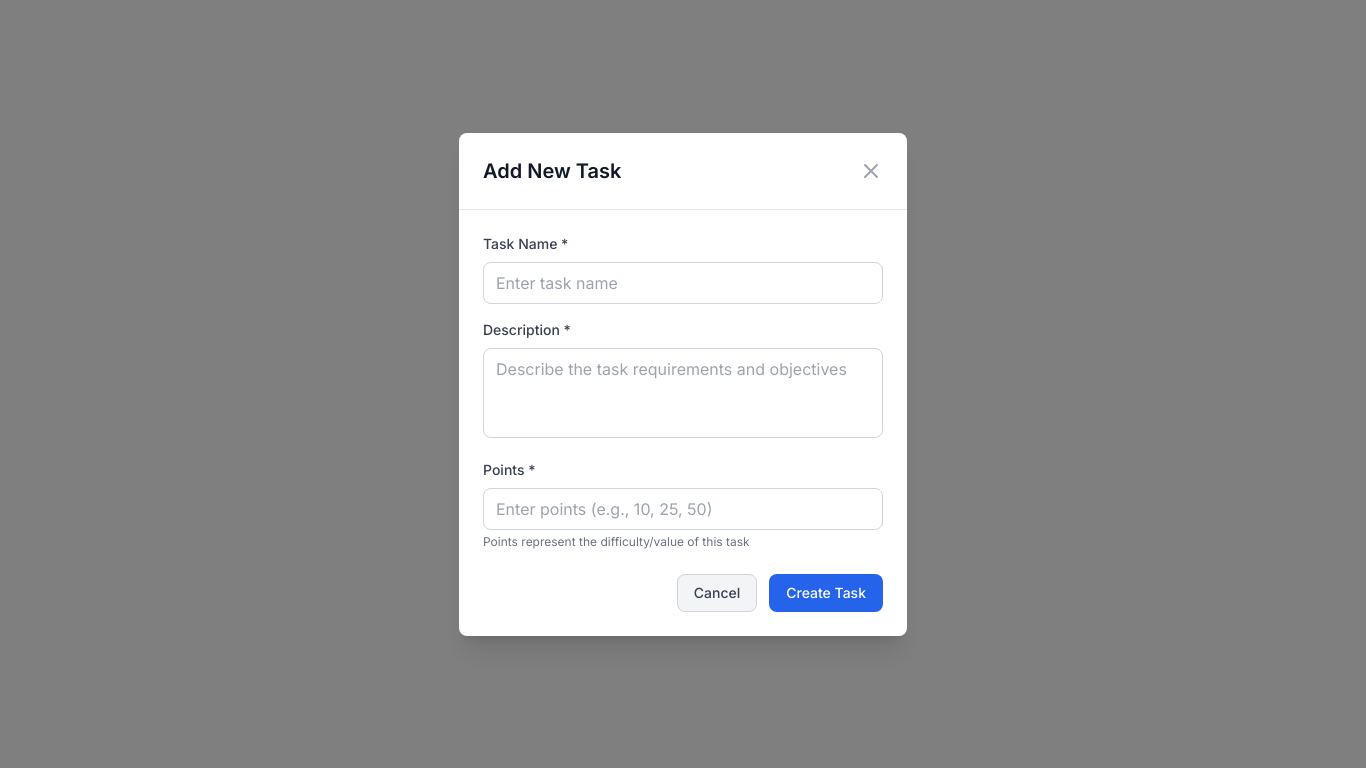
AddTaskModal › Form Submission › handles submission errors
This screenshot has width=1366, height=768.
Type "Test Task" into the field labelled "Task Name *" at (683, 282), box [483,262,883,304]
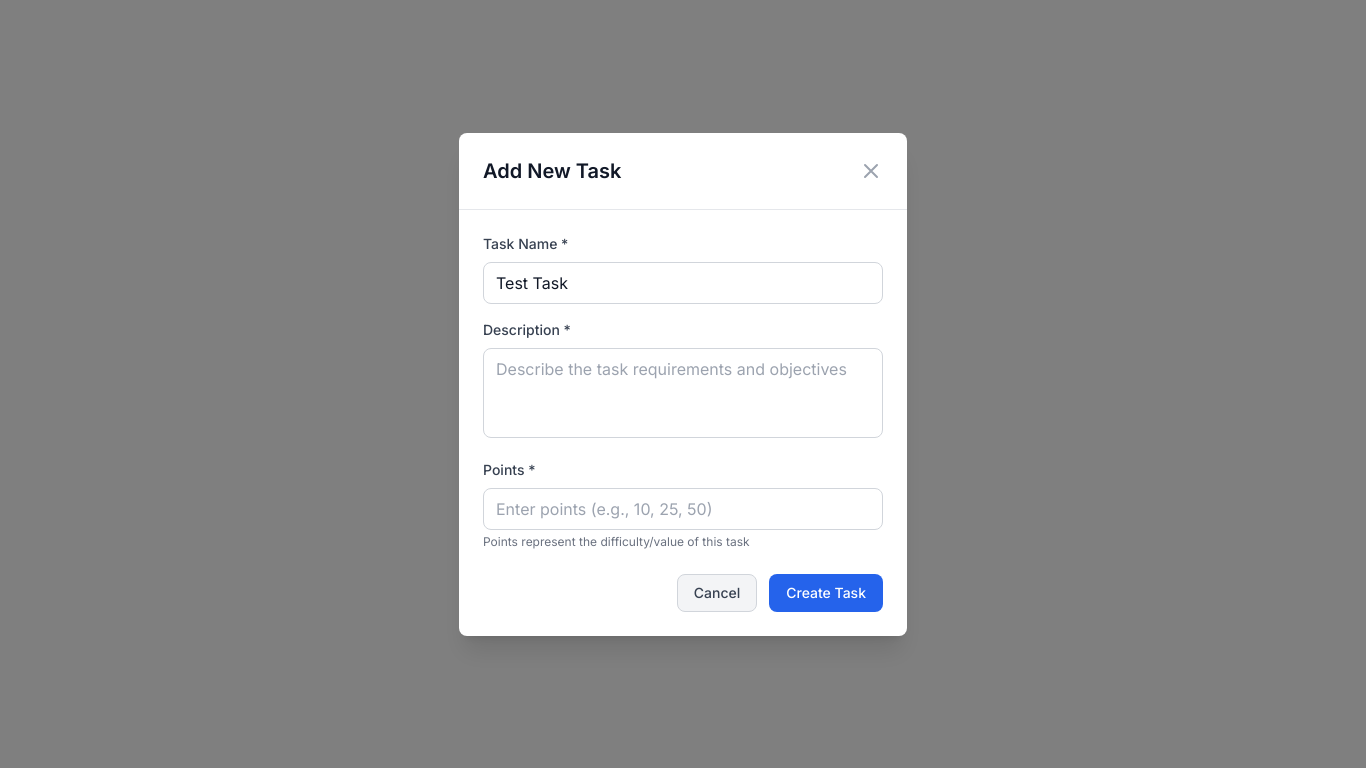
Type "Test Description" into the text box labelled "Description *" at (683, 392), box [483,348,883,438]
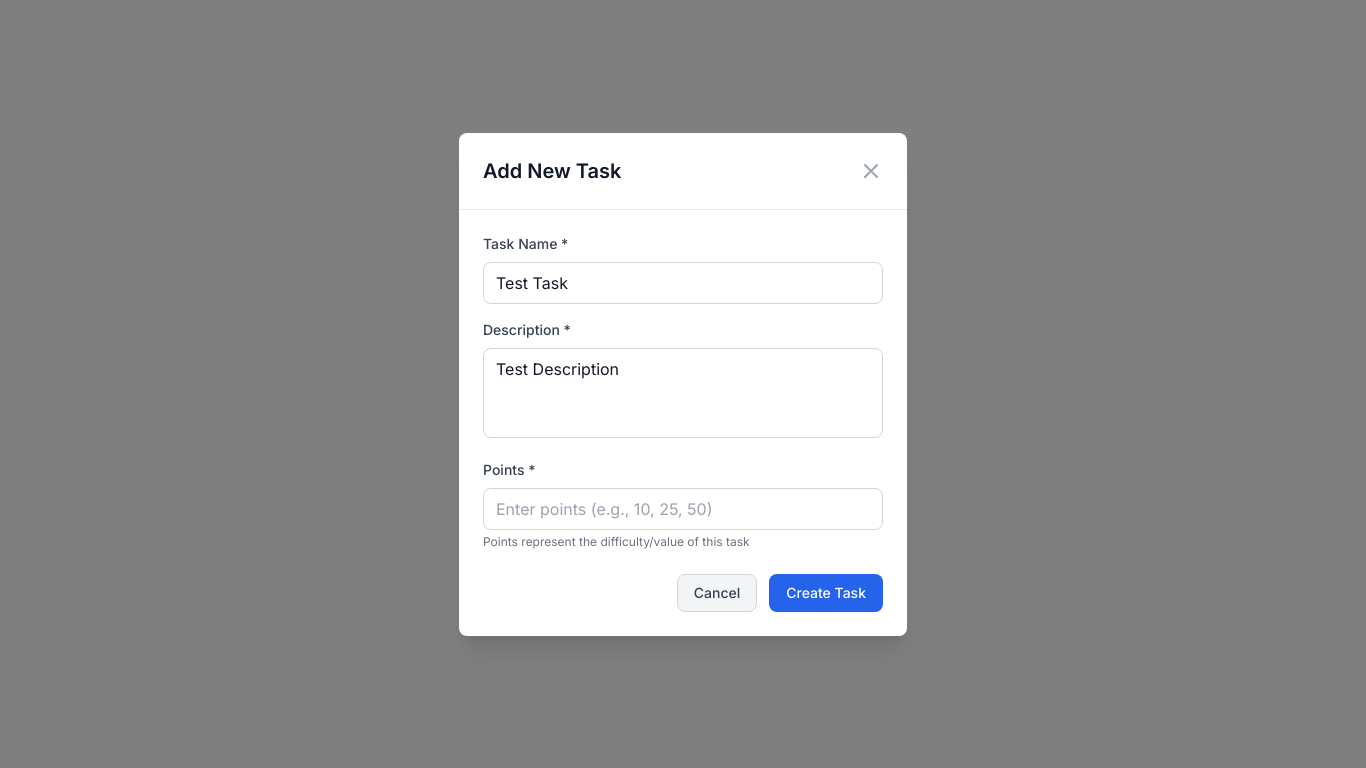
Type "25" into the number field labelled "Points *" at (683, 508), box [483,488,883,530]
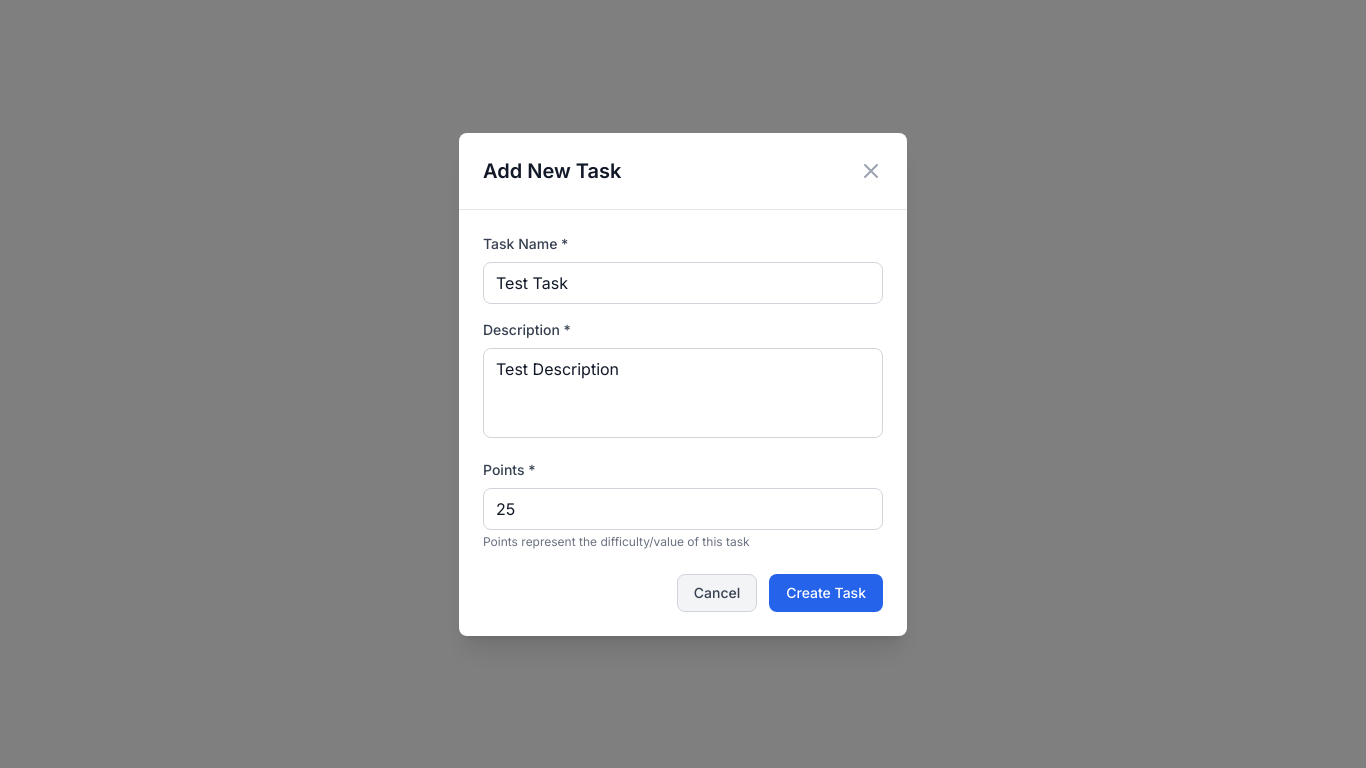
Click the button "Create Task" at (826, 592), box [769,574,883,612]
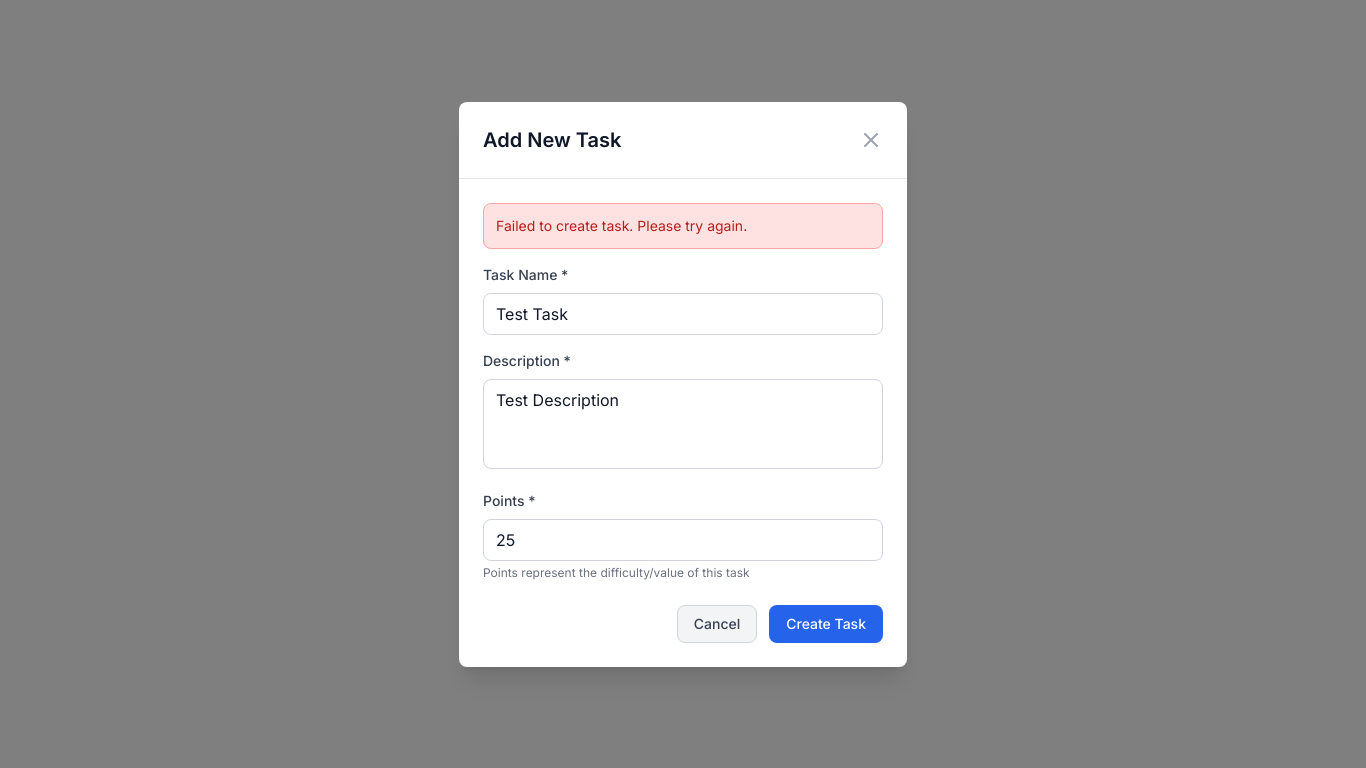
Now the text "Failed to create task. Please try again." is shown, box [496,216,747,234]
